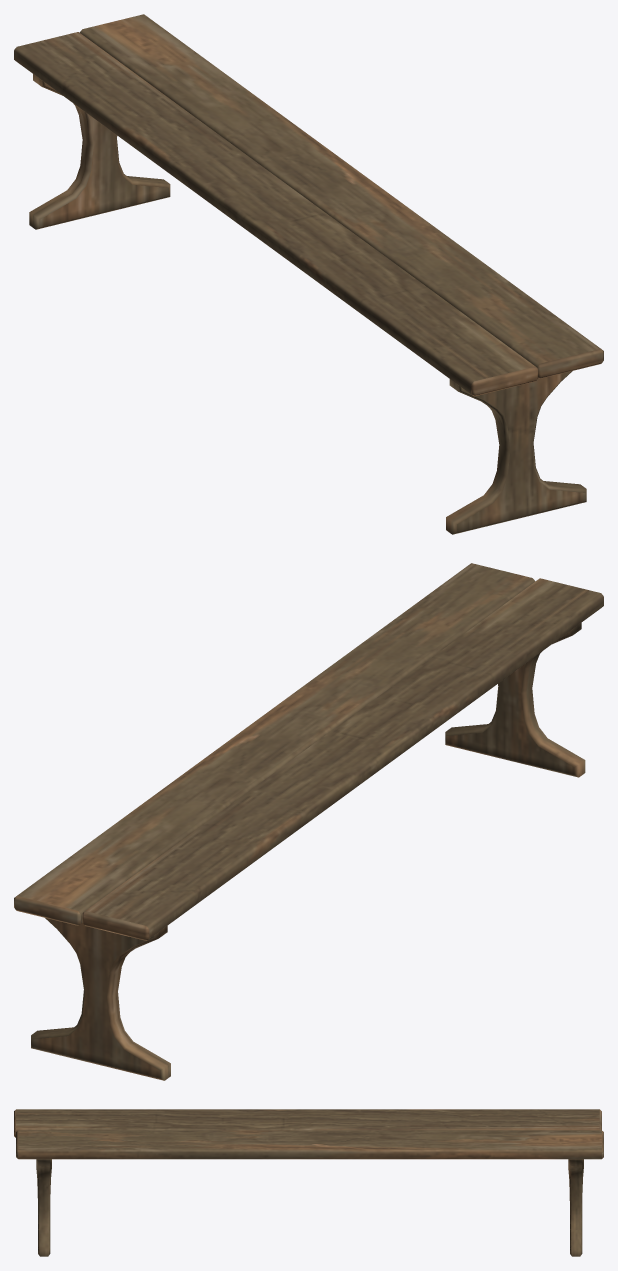
Rendered from SM_bench_01.fbx.
3 views of the same model, one above another, from view 1: azimuth 30°, elevation 25°; view 2: azimuth 150°, elevation 25°; view 3: azimuth 270°, elevation 25° (orthographic). The views are drawn at different scales.
Visible parts, largest first — view 1: SM_bench_01_LOD0; view 2: SM_bench_01_LOD0; view 3: SM_bench_01_LOD0.
Part boxes in pixels (x1,y1,x2,y2): SM_bench_01_LOD0: (14, 14, 603, 534); SM_bench_01_LOD0: (14, 563, 603, 1080); SM_bench_01_LOD0: (14, 1109, 603, 1256).
Bounding box in the file's own units: 48.3 × 287 × 57.12.
1 material, 1 textured.
